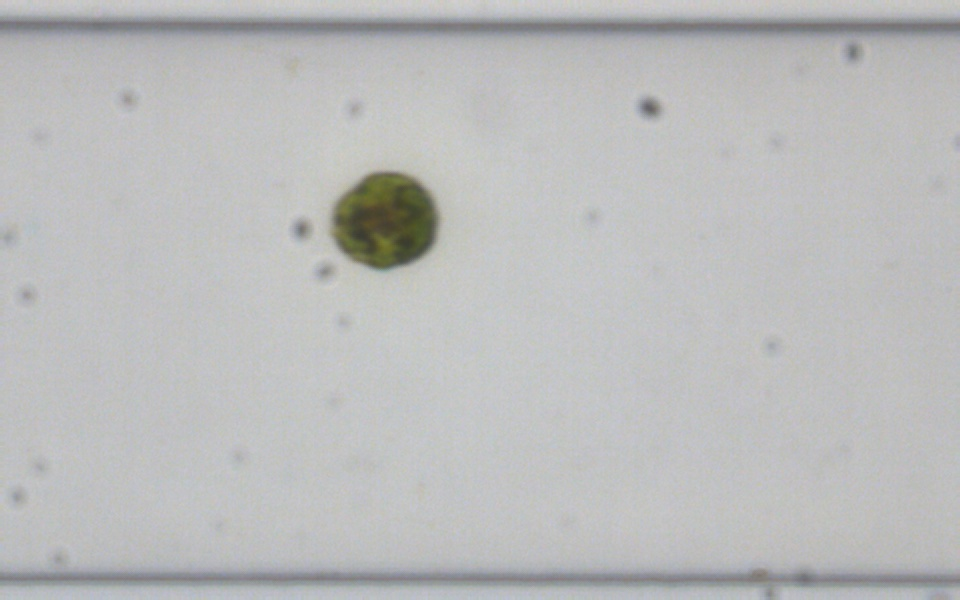Haematococcus: (325, 167, 439, 271)
